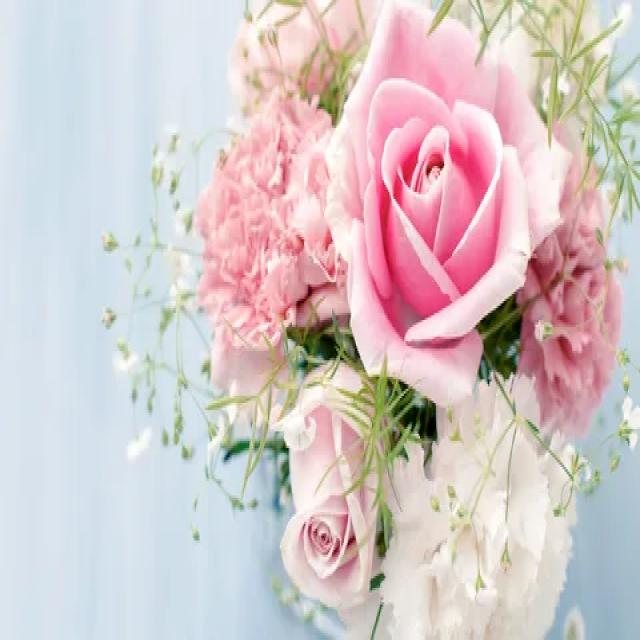rose: (322, 0, 577, 424)
